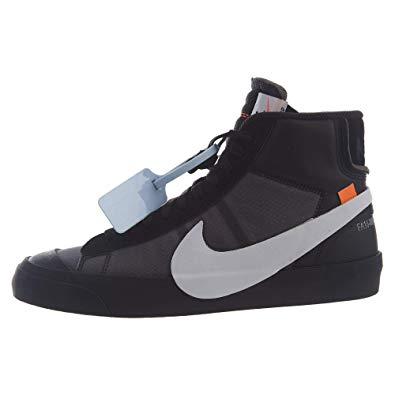Nike Blazer Grim Reaper: (2, 61, 387, 315)
